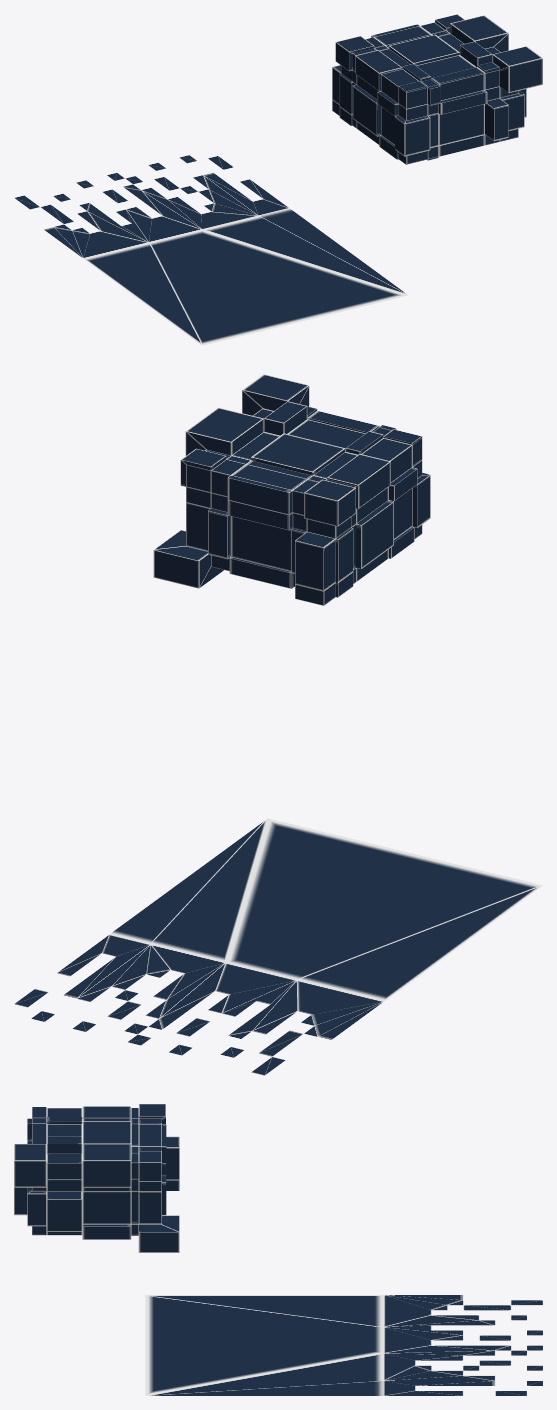
Rendered from VoidLandsTestPieces.fbx.
The picture shows the model from 3 angles, top to bottom: view 1: azimuth 30°, elevation 25°; view 2: azimuth 150°, elevation 25°; view 3: azimuth 270°, elevation 25°; orthographic projection. The views are drawn at different scales.
Visible parts, largest first — view 1: VoidLeak, Mess; view 2: VoidLeak, Mess; view 3: VoidLeak, Mess.
Boxes of the visible parts, left/top/right/bottom form: VoidLeak: left=14, top=155, right=408, bottom=345; Mess: left=332, top=14, right=542, bottom=164; VoidLeak: left=14, top=818, right=542, bottom=1075; Mess: left=153, top=374, right=430, bottom=605; VoidLeak: left=145, top=1295, right=542, bottom=1395; Mess: left=14, top=1104, right=179, bottom=1252.
Bounding box in the file's own units: 66.52 × 40 × 37.31.
